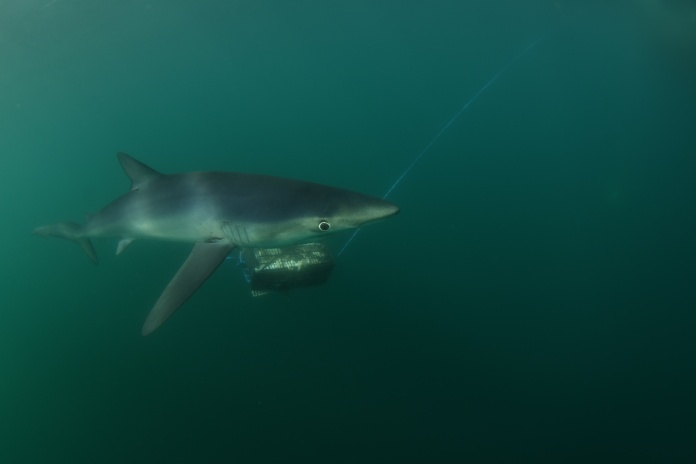Azul: (12, 114, 468, 337)
